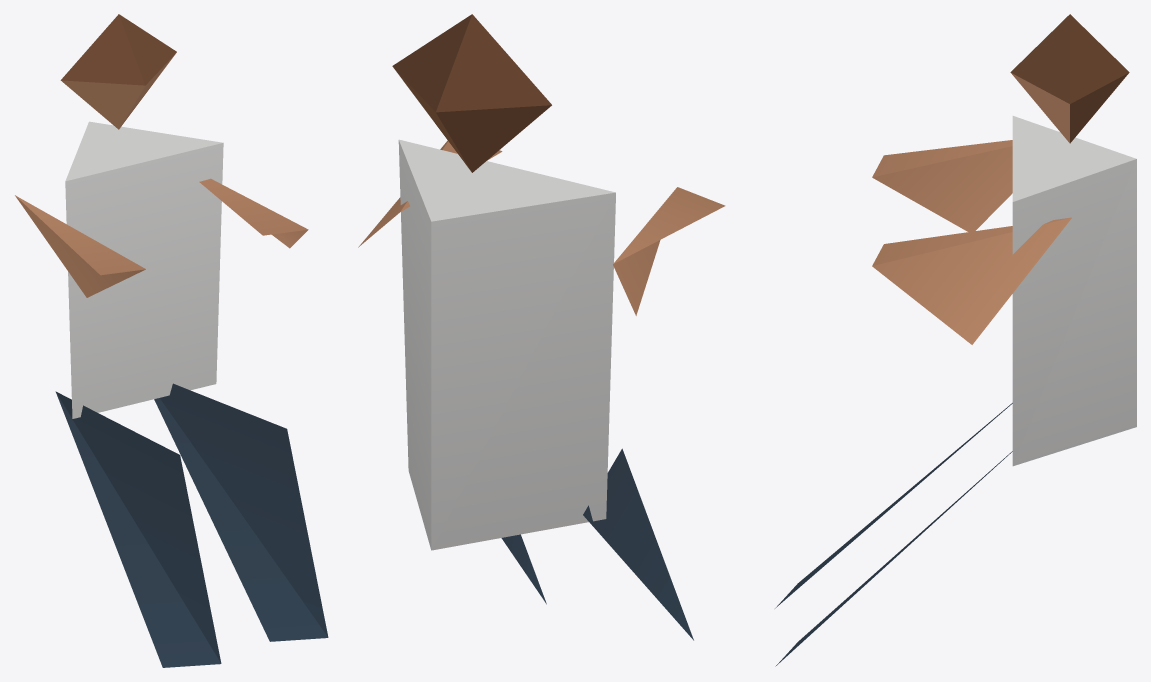
File: fan-03.glb
3 views of the same model, side by side, from view 1: azimuth 30°, elevation 25°; view 2: azimuth 150°, elevation 25°; view 3: azimuth 270°, elevation 25° (orthographic). The views are drawn at different scales.
Parts seen in each view (by area): view 1: fan-03; view 2: fan-03; view 3: fan-03.
Part boxes in pixels (x1,y1,x2,y2): fan-03: (15,14,328,667); fan-03: (358,14,725,640); fan-03: (775,14,1136,666).
Bounding box in the file's own units: 0.625 × 1.41 × 0.76.
